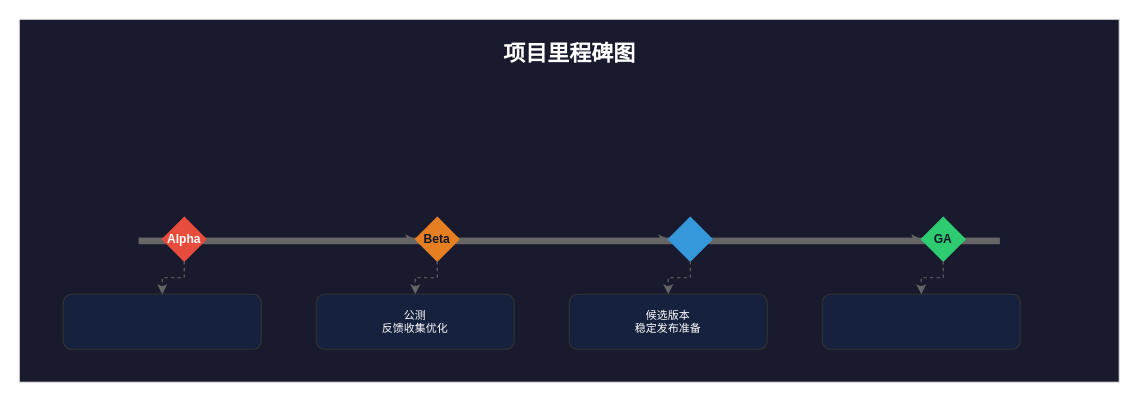
The diagram is 1139 pixels wide and 402 high, and some of its shapes have lost their labels. The shapes that lost their labels are listed below. From the top down, each one's centre as x and y in pixels, then its label:
At (689,238): "RC".
At (161,321): "内部测试 核心功能完成".
At (920,321): "正式发布 全量上线".
